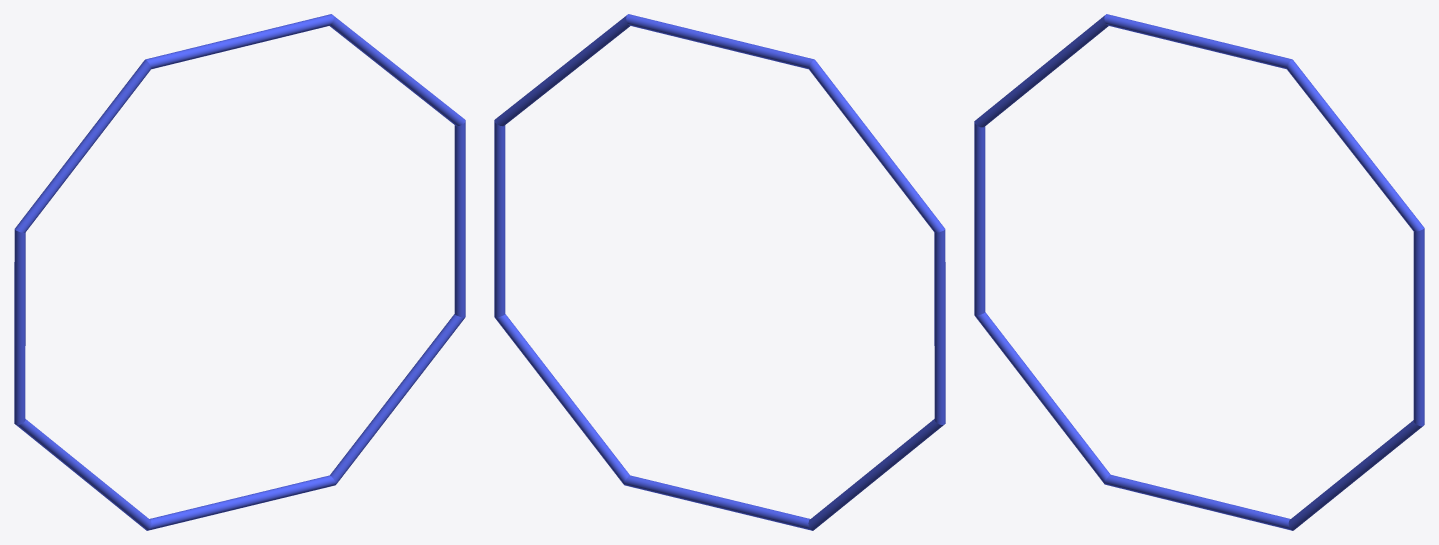
The model's file is MyOctagon.dae.
3 views of the same model, side by side, from view 1: azimuth 30°, elevation 25°; view 2: azimuth 150°, elevation 25°; view 3: azimuth 330°, elevation 25° (orthographic).
Parts seen in each view (by area): view 1: MyOctagon.001; view 2: MyOctagon.001; view 3: MyOctagon.001.
Part boxes in pixels (x1,y1,x2,y2): MyOctagon.001: (14,14,465,530); MyOctagon.001: (494,14,945,530); MyOctagon.001: (974,14,1424,530).
Bounding box in the file's own units: 2.95 × 0.0641 × 2.95.
